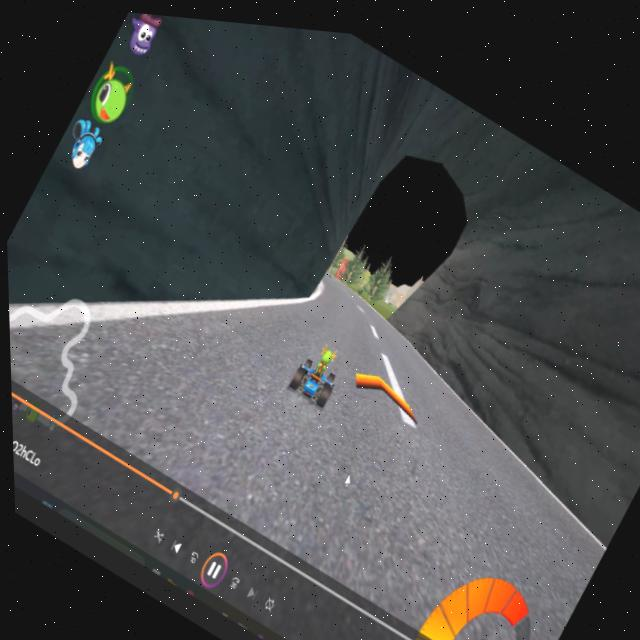player_kart: (272, 315, 355, 421)
power_up: (335, 346, 425, 431)
track: (307, 274, 394, 351)
